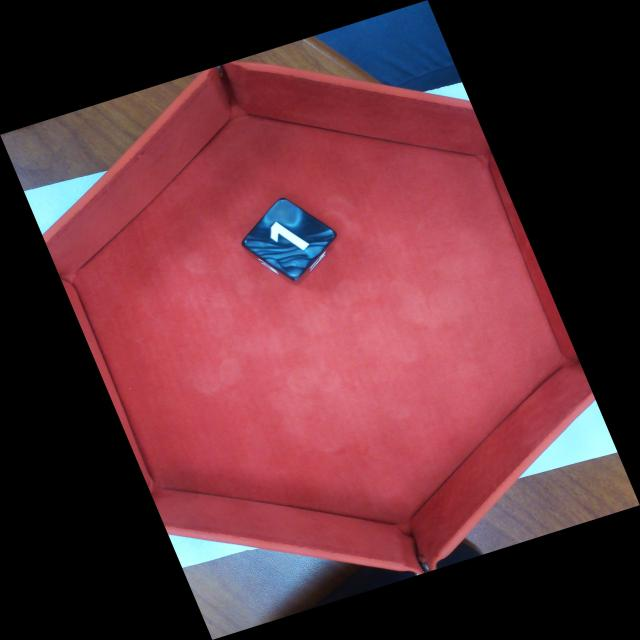dice: (236, 193, 342, 283)
